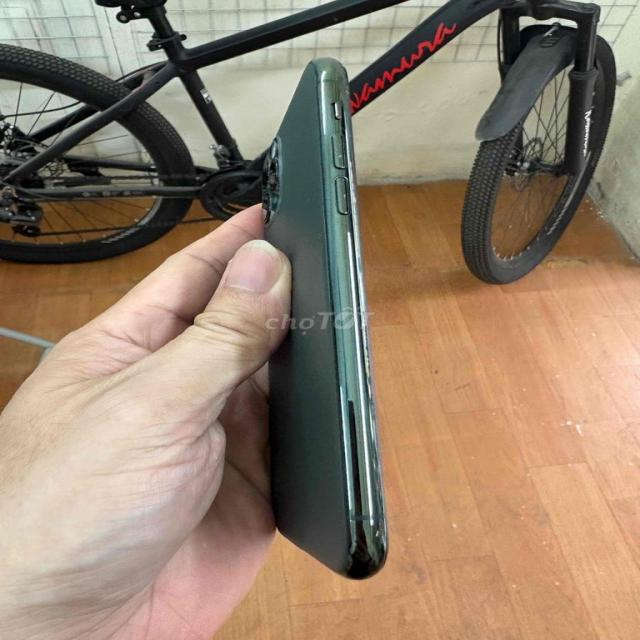gen_11: (242, 54, 399, 592)
